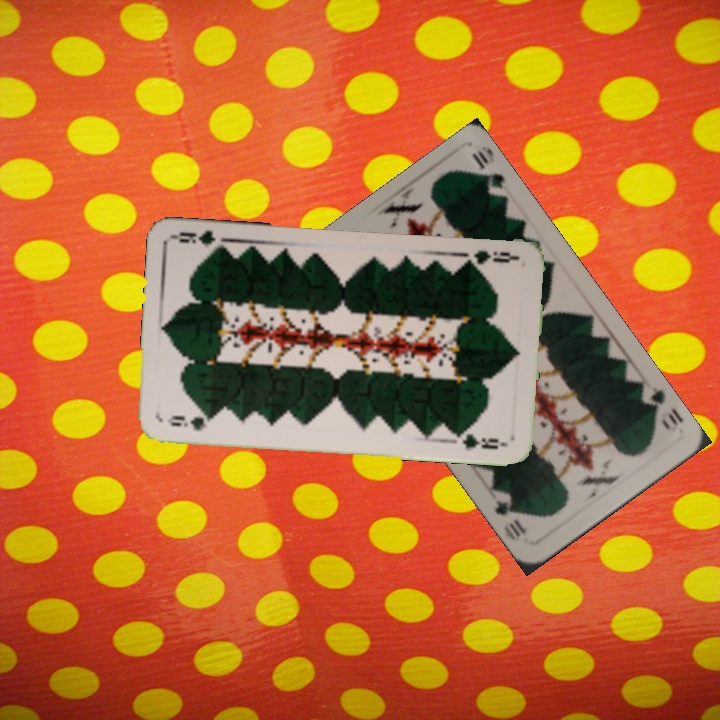G10: (636, 382, 685, 435)
G9: (460, 246, 520, 270), (163, 411, 217, 433)
